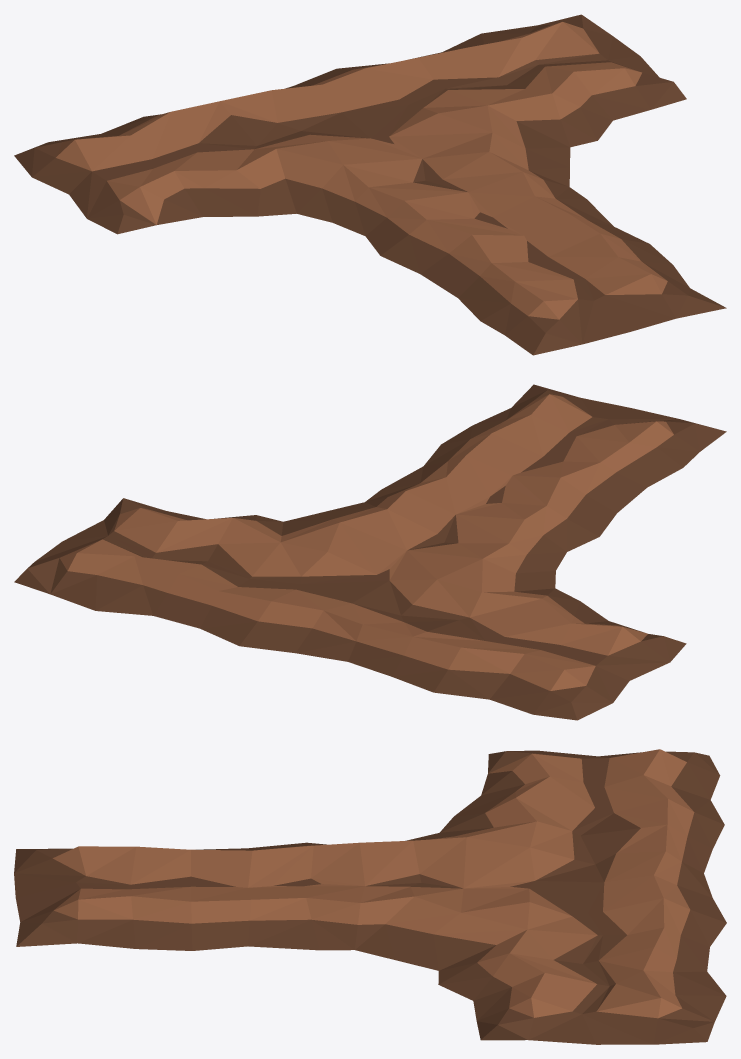
The model's file is Road_Mud_3.fbx.
The picture shows the model from 3 angles, top to bottom: view 1: azimuth 30°, elevation 25°; view 2: azimuth 150°, elevation 25°; view 3: azimuth 270°, elevation 25°; orthographic projection. The views are drawn at different scales.
Parts seen in each view (by area): view 1: Road_Mud_3; view 2: Road_Mud_3; view 3: Road_Mud_3.
Boxes of the visible parts, x1,y1,x2,y2 form: Road_Mud_3: [14, 14, 726, 355]; Road_Mud_3: [14, 384, 726, 720]; Road_Mud_3: [14, 749, 726, 1044].
Bounding box in the file's own units: 6 × 0.2628 × 6.15.
